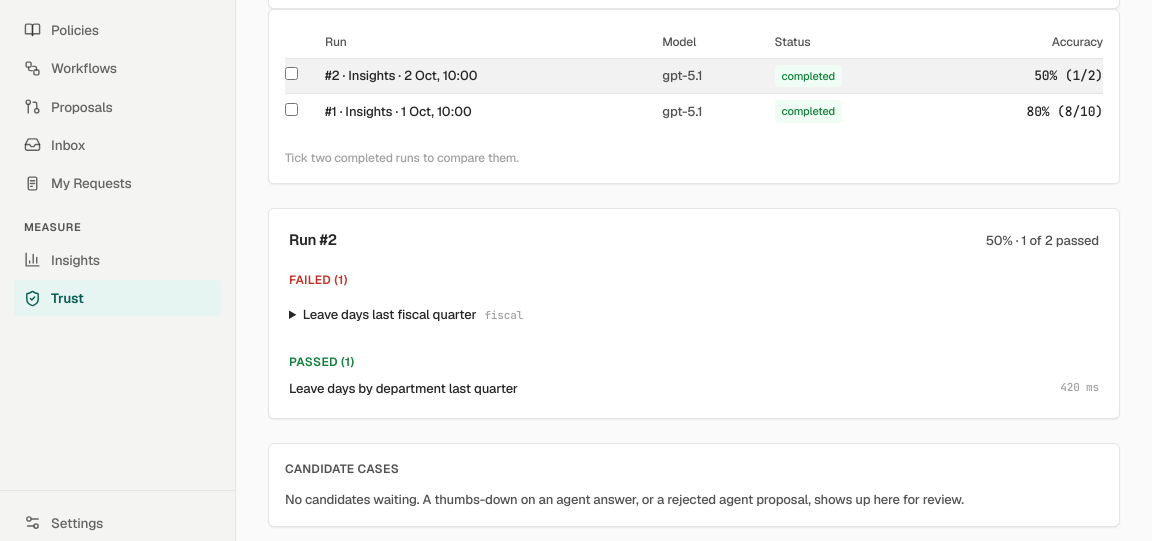
/trust › shows a scoreboard per suite and drills into the latest run, failures first with what differed
The width and height of the screenshot is (1152, 541).
(page scrolled)
Expected: the heading "Failed (1)" is shown, [289,272,348,288]
Click the text "Leave days last fiscal quarter" at [390, 314], box [303,306,476,323]
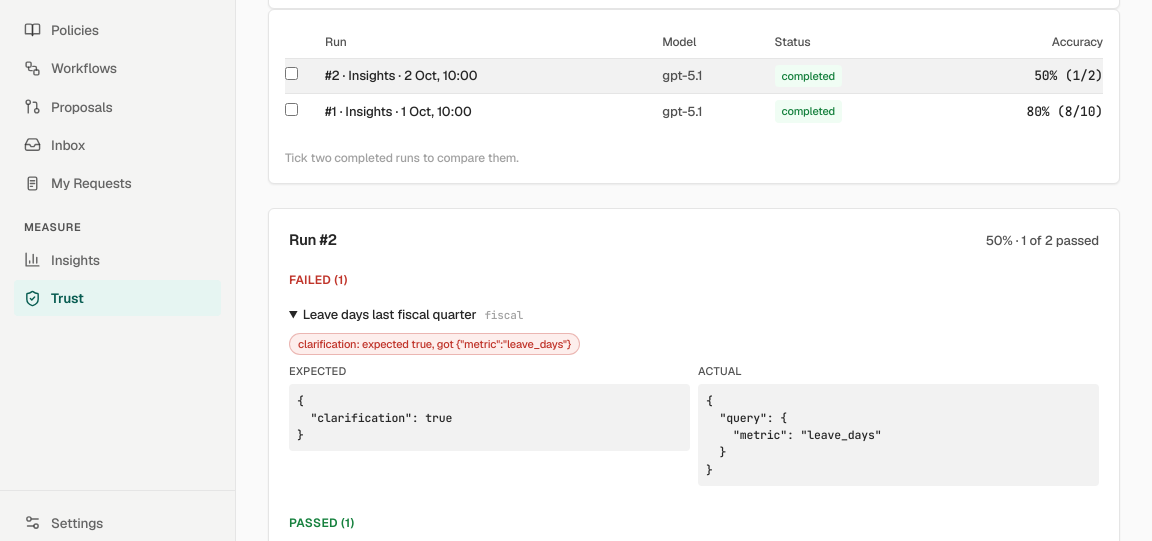
Expected: the heading "Passed (1)" is shown, [289,515,354,531]
Expected: the list item "clarification: expected true, got {\"metric\":\"leave_days\"}" is shown, [289,332,580,355]
